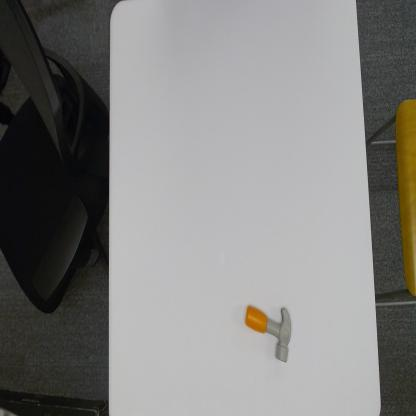Hammer: (244, 304, 292, 364)
